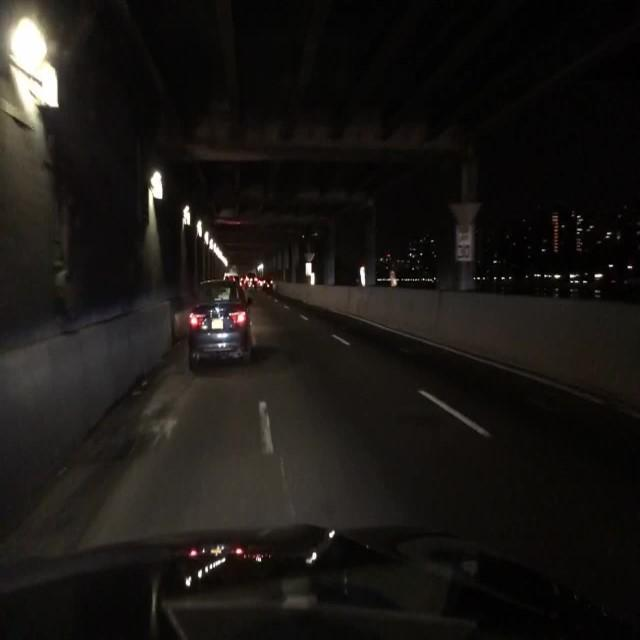normal: (186, 279, 256, 371)
